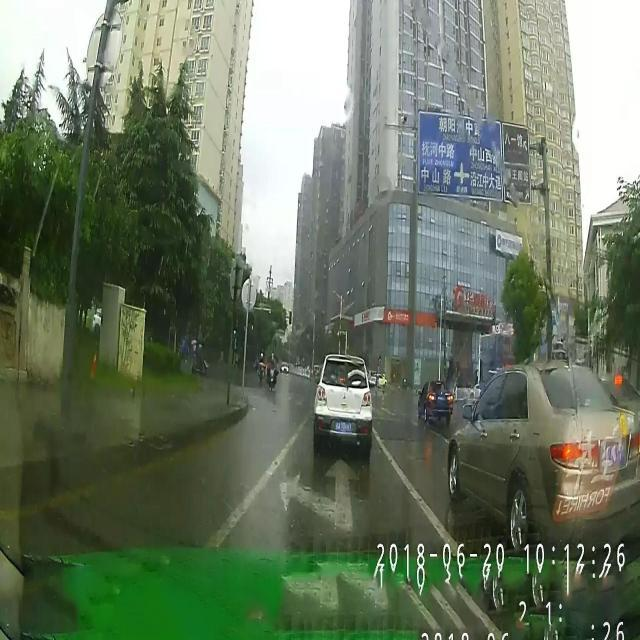car: (448, 363, 638, 550), (311, 353, 373, 453), (416, 378, 453, 426), (282, 361, 288, 374)
